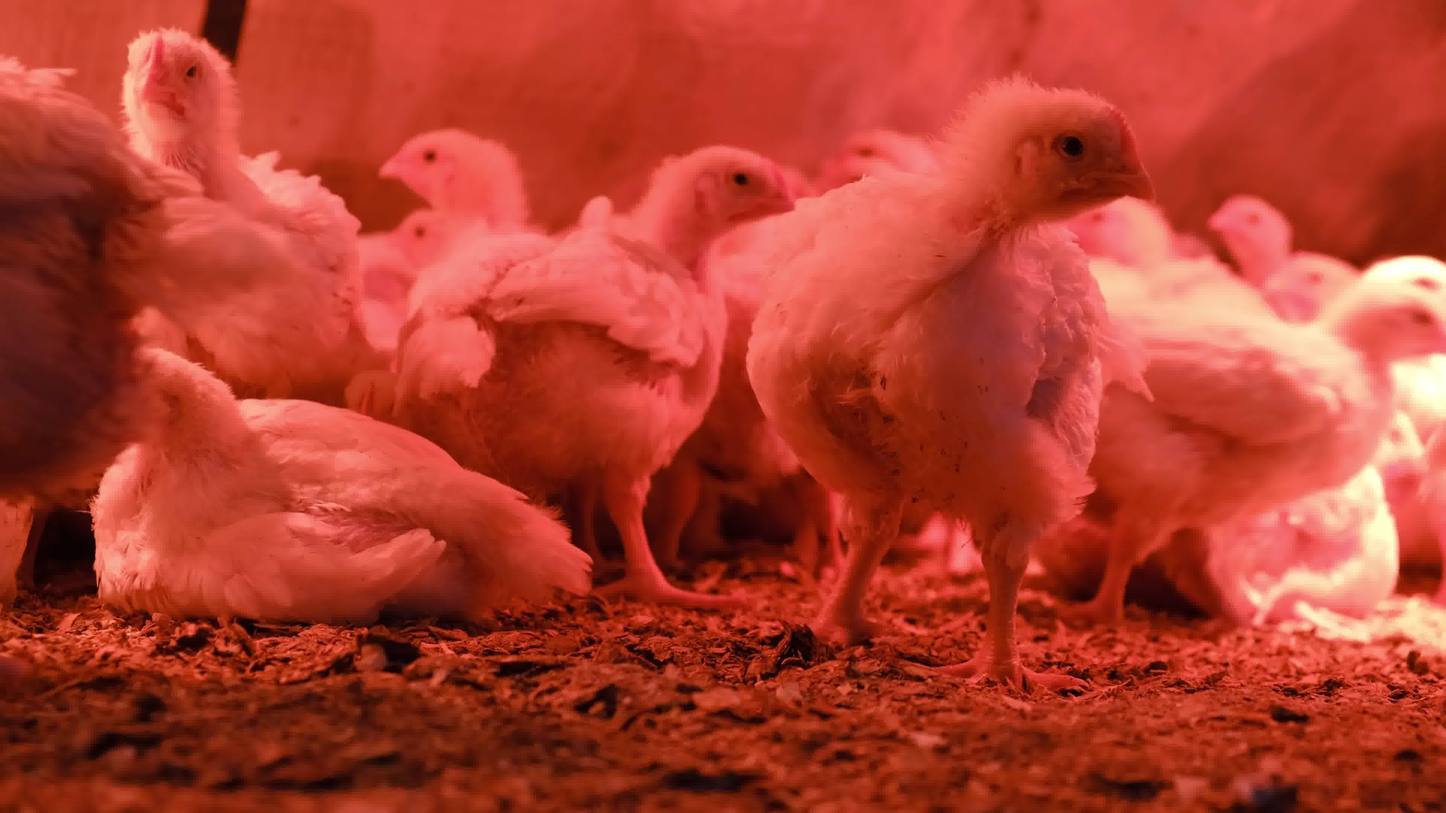AbNormal: (93, 342, 590, 625), (1135, 407, 1437, 623)
Normal: (760, 81, 1153, 691), (375, 140, 801, 607), (1046, 279, 1446, 629), (121, 29, 364, 399), (2, 53, 155, 529), (377, 126, 530, 240), (1209, 189, 1292, 306), (390, 204, 475, 276), (1277, 253, 1360, 324)
